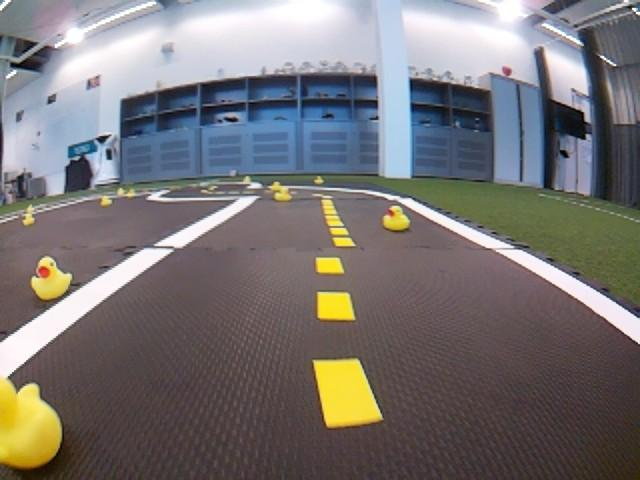Duckies: (2, 380, 61, 466), (31, 255, 71, 299), (383, 206, 411, 230), (273, 189, 293, 201), (22, 214, 35, 226), (100, 197, 112, 206), (270, 181, 282, 190), (314, 175, 324, 184), (127, 188, 136, 197), (26, 205, 34, 212), (243, 176, 251, 183), (117, 188, 124, 195)
